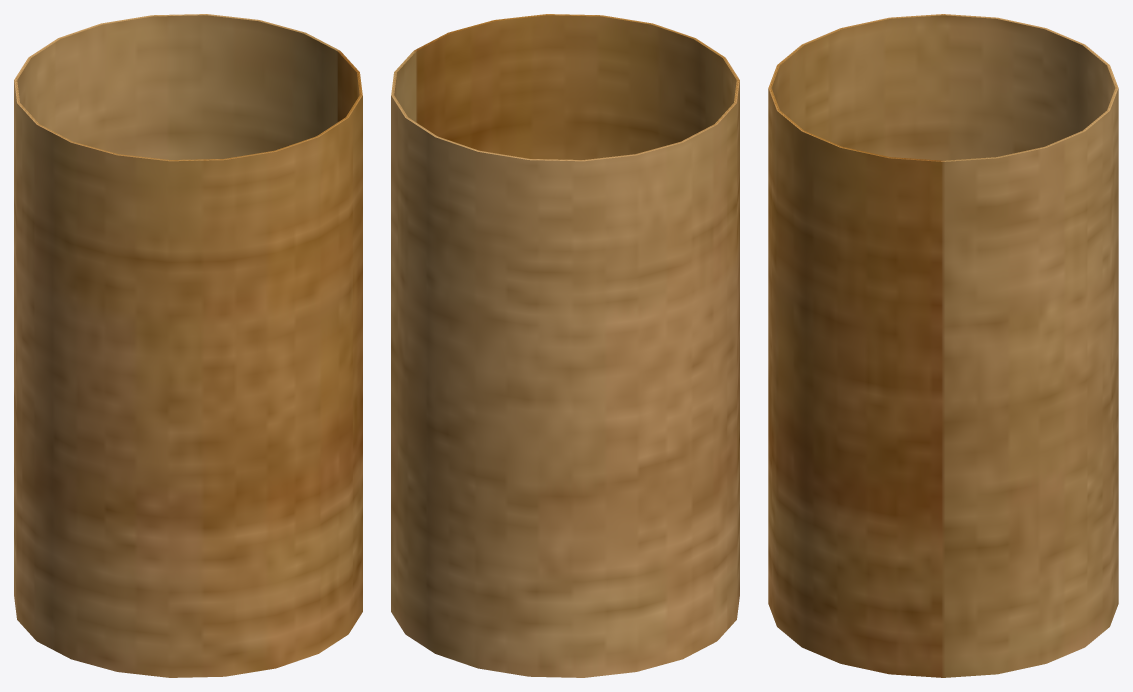
The model's file is pipe.obj.
The picture shows the model from 3 angles, left to right: view 1: azimuth 30°, elevation 25°; view 2: azimuth 150°, elevation 25°; view 3: azimuth 270°, elevation 25°; orthographic projection.
Visible parts, largest first — view 1: pPipe1; view 2: pPipe1; view 3: pPipe1.
Boxes of the visible parts, x1,y1,x2,y2 form: pPipe1: (14,14,362,677); pPipe1: (391,14,739,677); pPipe1: (768,14,1118,677).
Bounding box in the file's own units: 1.13 × 1.84 × 1.13.
Materials: 1 (1 with a texture image).
